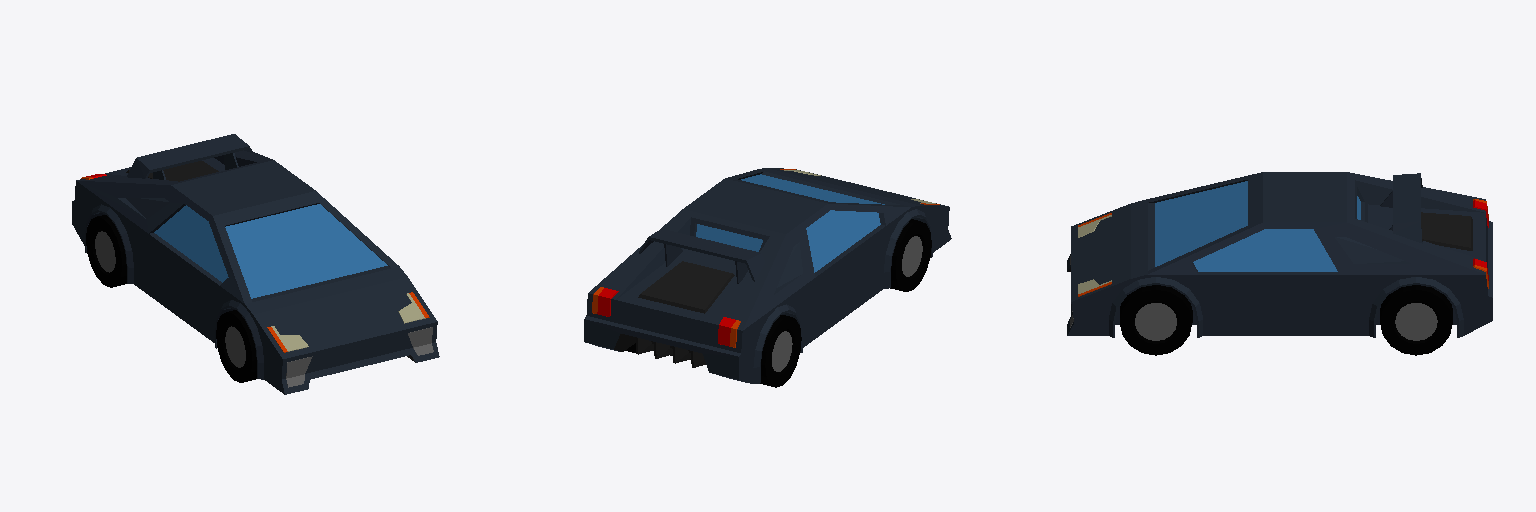
File: car-lamba-sport-grey.obj
The picture shows the model from 3 angles: view 1: azimuth 30°, elevation 25°; view 2: azimuth 150°, elevation 25°; view 3: azimuth 270°, elevation 25°; orthographic projection.
Visible parts, largest first — view 1: car-lamba-sport-grey_Cube.901; view 2: car-lamba-sport-grey_Cube.901; view 3: car-lamba-sport-grey_Cube.901.
Part boxes in pixels (x1,y1,x2,y2): car-lamba-sport-grey_Cube.901: (72,134,439,394); car-lamba-sport-grey_Cube.901: (584,168,951,387); car-lamba-sport-grey_Cube.901: (1067,172,1492,355).
Size of the model in its own units: 0.954 by 0.6405 by 2.1.